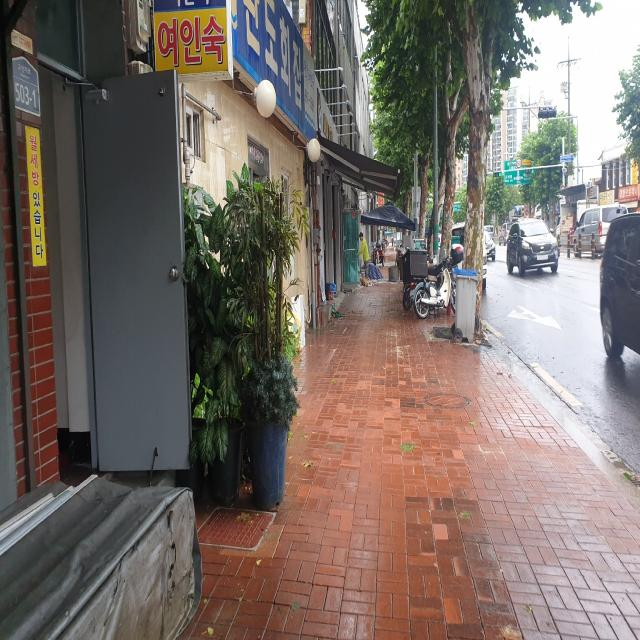car: (599, 212, 640, 358), (506, 218, 561, 277)
motorbike: (449, 0, 496, 338), (402, 243, 456, 319)
